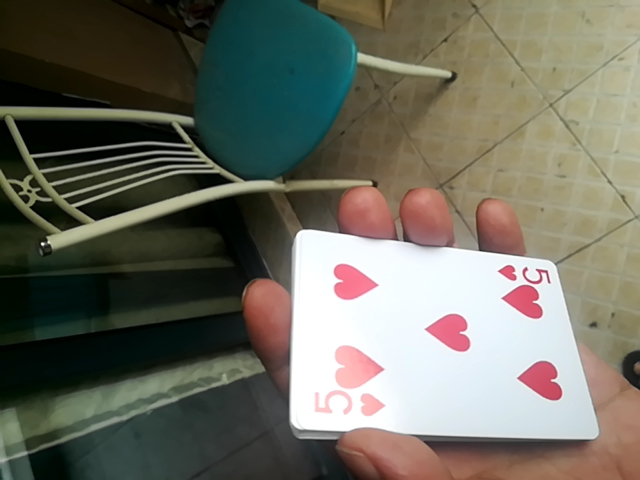hx 5: (292, 230, 604, 448)
